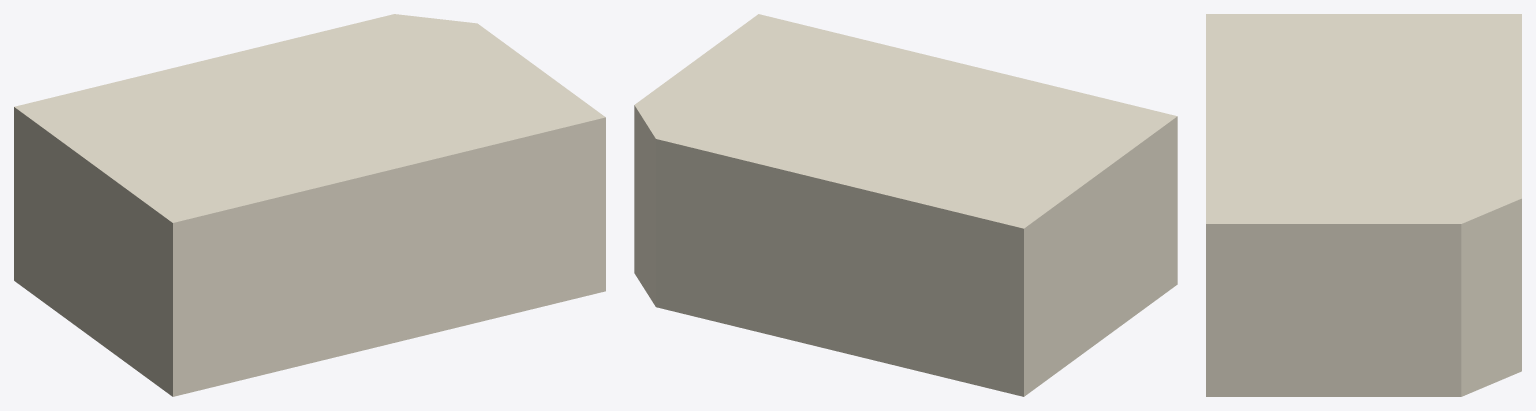
The model's file is KOL_T1_METROPOLITAN__01_Shell.fbx.
The picture shows the model from 3 angles, left to right: view 1: azimuth 30°, elevation 25°; view 2: azimuth 150°, elevation 25°; view 3: azimuth 270°, elevation 25°; orthographic projection. The views are drawn at different scales.
Parts seen in each view (by area): view 1: KOL_T1_METROPOLITAN__01_Shell__KOL_T1_HeritageWhite; view 2: KOL_T1_METROPOLITAN__01_Shell__KOL_T1_HeritageWhite; view 3: KOL_T1_METROPOLITAN__01_Shell__KOL_T1_HeritageWhite.
Part boxes in pixels (bbox=[...]): KOL_T1_METROPOLITAN__01_Shell__KOL_T1_HeritageWhite: bbox=[14, 14, 605, 396]; KOL_T1_METROPOLITAN__01_Shell__KOL_T1_HeritageWhite: bbox=[634, 14, 1177, 396]; KOL_T1_METROPOLITAN__01_Shell__KOL_T1_HeritageWhite: bbox=[1206, 14, 1521, 396].
Bounding box in the file's own units: 148 × 56.8 × 94.
